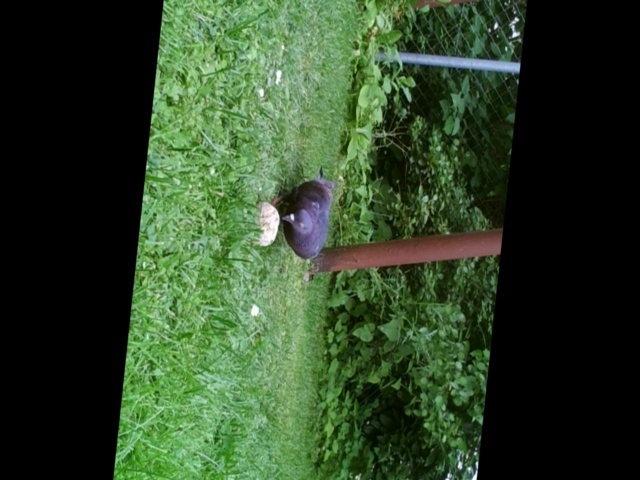Pigeon: (263, 160, 339, 268)
